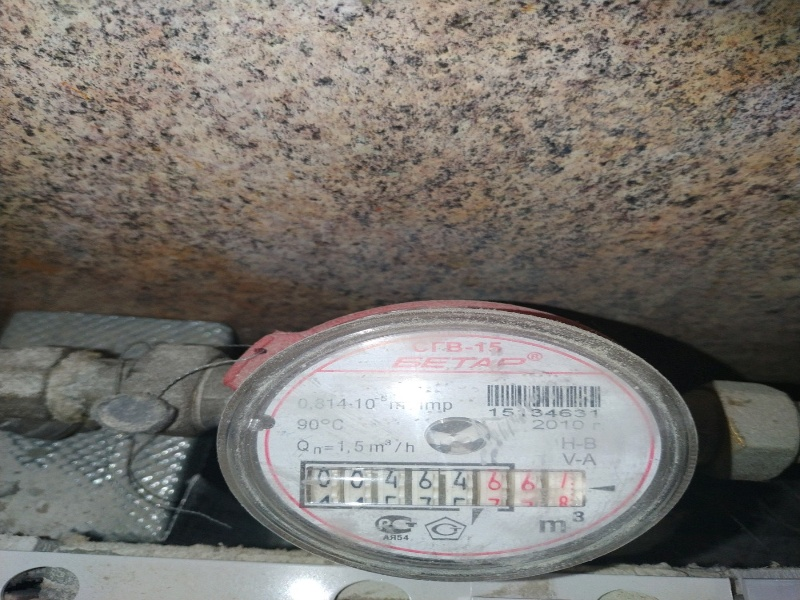meter: (303, 469, 575, 505)
